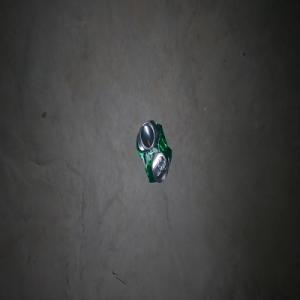SodaCan: (135, 119, 171, 183)
